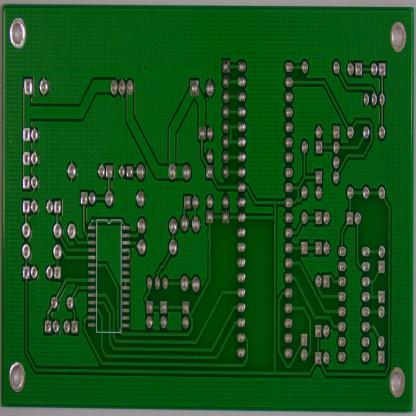short: (224, 121, 236, 148), (367, 277, 376, 302), (294, 182, 301, 203), (84, 232, 90, 244)
